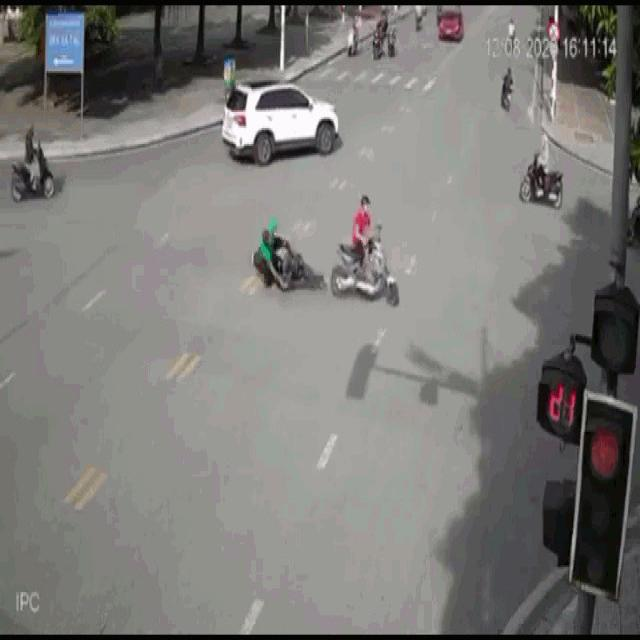multiple_accident: (248, 182, 402, 324)
normal: (204, 56, 367, 177), (509, 117, 583, 226), (0, 111, 73, 210)
